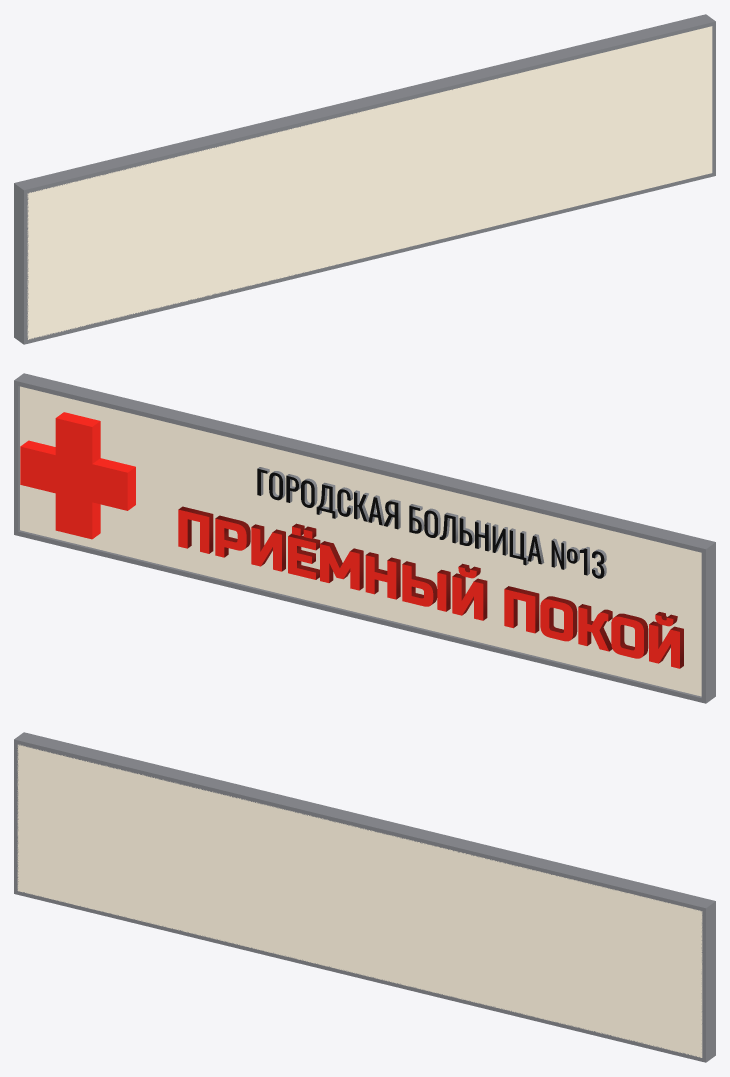
File: hospital.glb
3 renders of one model, top to bottom at view 1: azimuth 30°, elevation 25°; view 2: azimuth 150°, elevation 25°; view 3: azimuth 330°, elevation 25°, orthographic.
Parts seen in each view (by area): view 1: Sign; view 2: Sign; view 3: Sign.
Part boxes in pixels (box(x1,y1,x2,y2)): Sign: box(14, 14, 715, 344); Sign: box(14, 373, 715, 703); Sign: box(14, 732, 715, 1062).
Size of the model in its own units: 9.66 by 2.06 by 0.4.
Materials: 1 (1 with a texture image).
